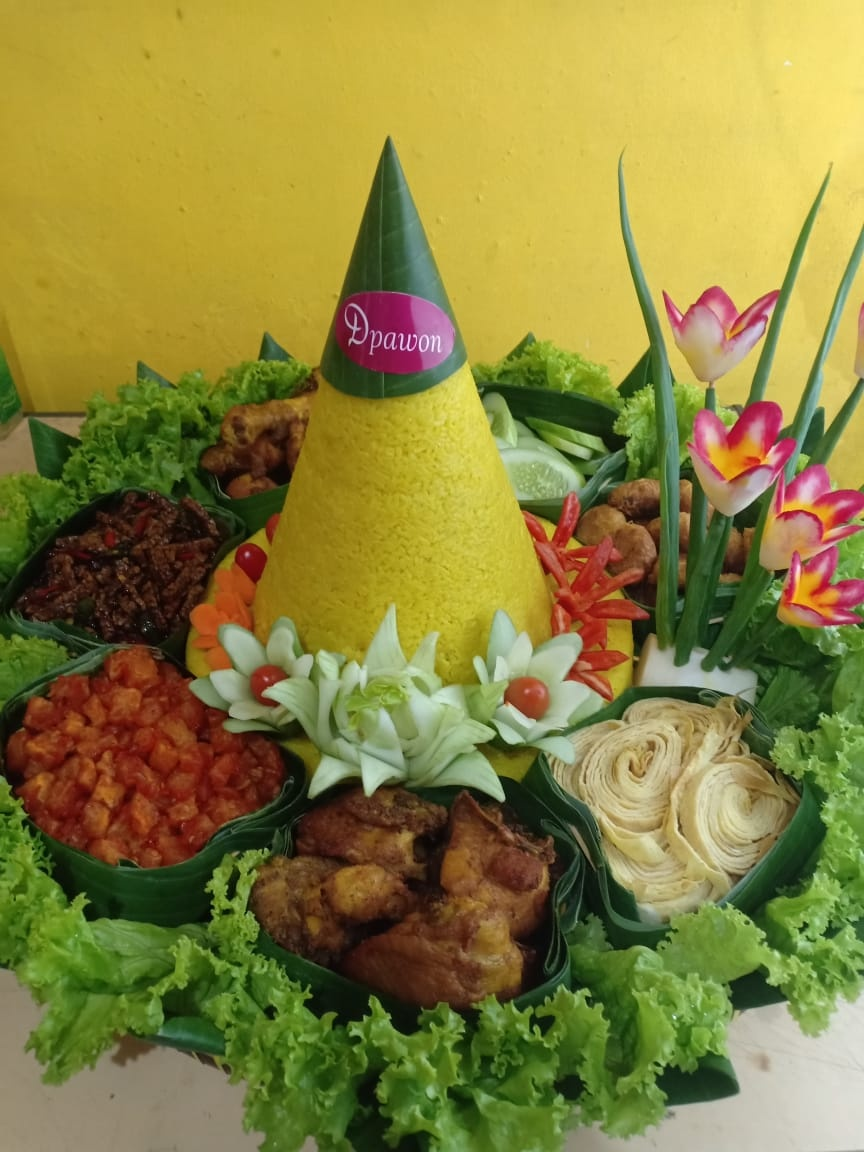nasi_tumpeng: (1, 132, 838, 1024)
